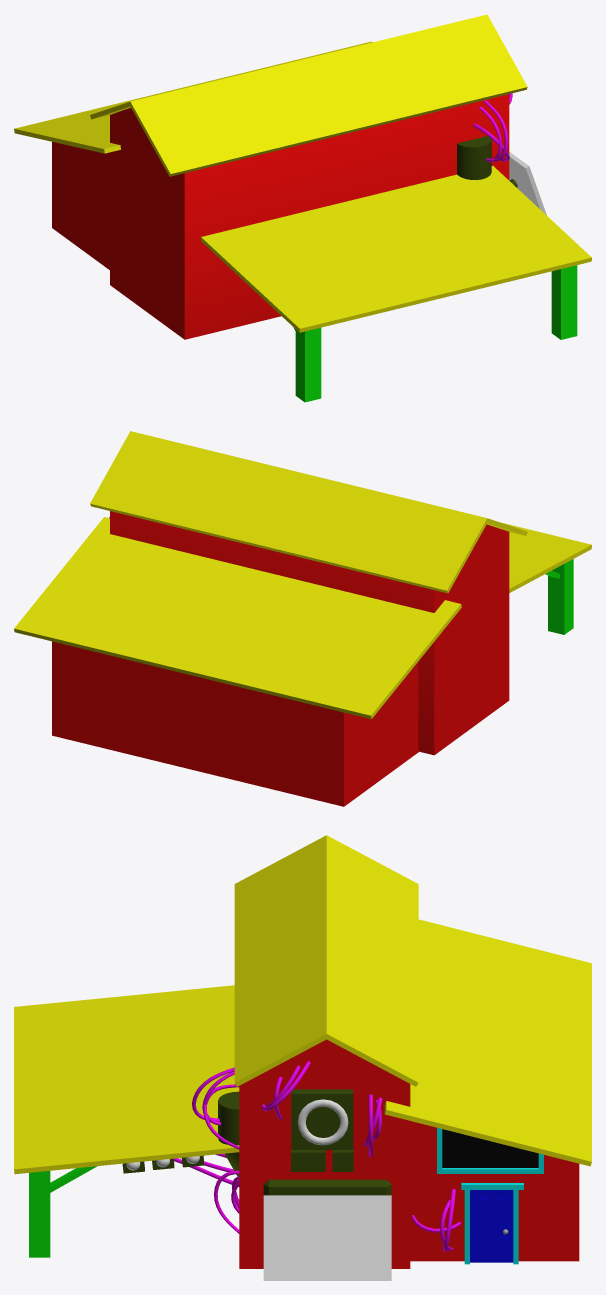
The model's file is Farmouse.fbx.
3 views of the same model, one above another, from view 1: azimuth 30°, elevation 25°; view 2: azimuth 150°, elevation 25°; view 3: azimuth 270°, elevation 25° (orthographic). The views are drawn at different scales.
Visible parts, largest first — view 1: pCube1, pCube3, pasted__pCube7, pCube2, pCube6, pasted__pCube4, pCube4, pCylinder4, pCube11; view 2: pCube6, pCube2, pCube7, pCube1, pCube3, pasted__pCube4; view 3: pCube6, pCube3, pCube7, pasted__pCube7, pCube1, pCube2, pCube11, pCube5, pCube17, pCube16, pCube10, pCube4 (+4 smaller).
Boxes of the visible parts, x1=… form: pCube1: x1=110, y1=94, x2=509, y2=339; pCube3: x1=201, y1=166, x2=591, y2=332; pasted__pCube7: x1=129, y1=14, x2=527, y2=176; pCube2: x1=52, y1=142, x2=109, y2=269; pCube6: x1=14, y1=41, x2=372, y2=153; pasted__pCube4: x1=295, y1=327, x2=321, y2=402; pCube4: x1=551, y1=265, x2=577, y2=339; pCylinder4: x1=457, y1=136, x2=491, y2=179; pCube11: x1=509, y1=152, x2=546, y2=215; pCube6: x1=14, y1=517, x2=461, y2=719; pCube2: x1=52, y1=641, x2=418, y2=806; pCube7: x1=90, y1=431, x2=487, y2=593; pCube1: x1=110, y1=511, x2=509, y2=755; pCube3: x1=501, y1=522, x2=591, y2=592; pasted__pCube4: x1=548, y1=559, x2=573, y2=634; pCube6: x1=384, y1=919, x2=591, y2=1166; pCube3: x1=14, y1=985, x2=239, y2=1174; pCube7: x1=324, y1=835, x2=418, y2=1086; pasted__pCube7: x1=234, y1=835, x2=327, y2=1086; pCube1: x1=239, y1=1039, x2=410, y2=1268; pCube2: x1=410, y1=1121, x2=579, y2=1261; pCube11: x1=263, y1=1195, x2=391, y2=1280; pCube5: x1=291, y1=1089, x2=353, y2=1149; pCube17: x1=442, y1=1129, x2=538, y2=1167; pCube16: x1=470, y1=1190, x2=513, y2=1262; pCube10: x1=263, y1=1179, x2=391, y2=1195; pCube4: x1=29, y1=1171, x2=50, y2=1257.
Size of the model in its own units: 24.19 by 12.73 by 27.05.
